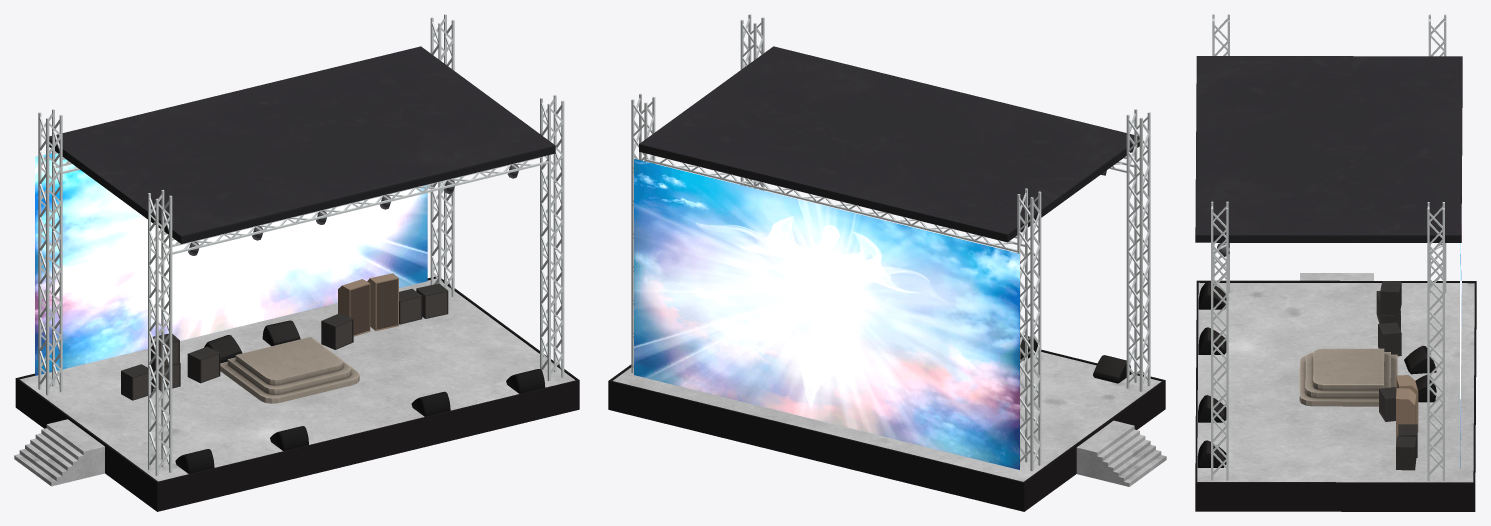
File: stage.glb
3 views of the same model, side by side, from view 1: azimuth 30°, elevation 25°; view 2: azimuth 150°, elevation 25°; view 3: azimuth 270°, elevation 25° (orthographic).
Parts seen in each view (by area): view 1: concert-stage.main.final__0_1, daotown.003_0; view 2: concert-stage.main.final__0_1, daotown.003_0; view 3: concert-stage.main.final__0_1, daotown.003_0.
Part boxes in pixels (box(x1,y1,x2,y2)): concert-stage.main.final__0_1: box(14, 14, 579, 511); daotown.003_0: box(35, 153, 427, 375); concert-stage.main.final__0_1: box(608, 14, 1166, 511); daotown.003_0: box(634, 159, 1019, 469); concert-stage.main.final__0_1: box(1195, 14, 1476, 511); daotown.003_0: box(1460, 204, 1461, 468).
Bounding box in the file's own units: 11.94 × 7.3 × 6.22.
Materials: 2 (2 with a texture image).
